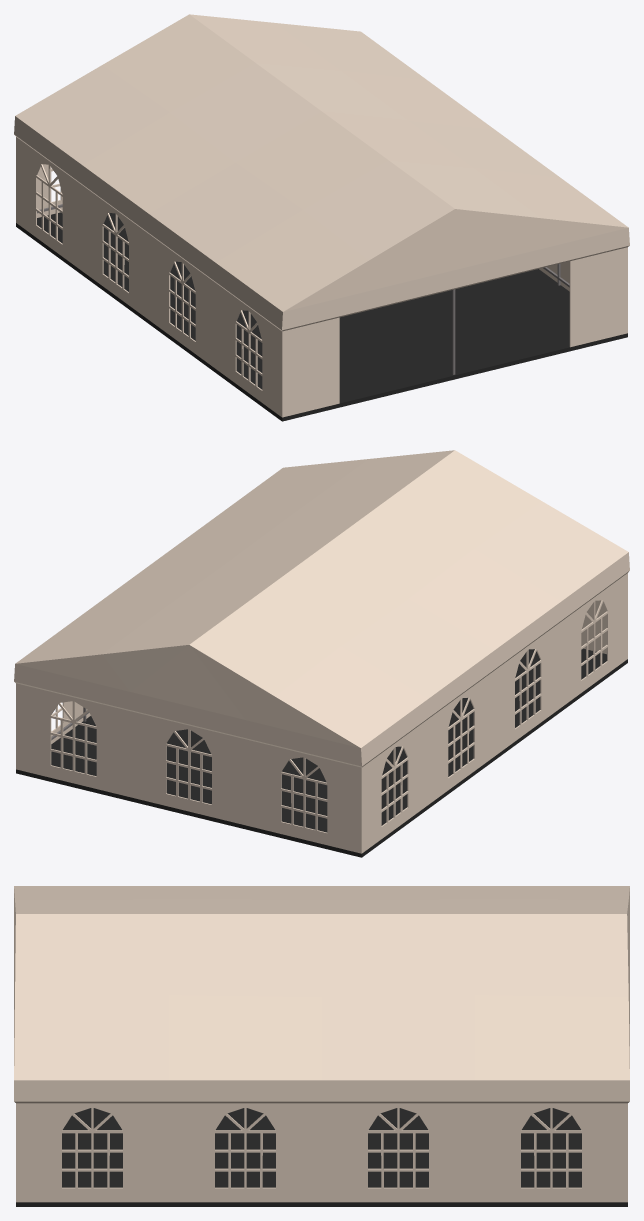
The model's file is buildings-tent-party-big.glb.
3 renders of one model, top to bottom at view 1: azimuth 30°, elevation 25°; view 2: azimuth 150°, elevation 25°; view 3: azimuth 270°, elevation 25°, orthographic. The views are drawn at different scales.
Parts seen in each view (by area): view 1: tent-party-big; view 2: tent-party-big; view 3: tent-party-big.
Boxes of the visible parts, x1,y1,x2,y2 form: tent-party-big: [14, 14, 629, 421]; tent-party-big: [14, 450, 629, 857]; tent-party-big: [14, 886, 629, 1206].
Bounding box in the file's own units: 9.06 × 4.24 × 12.08.
